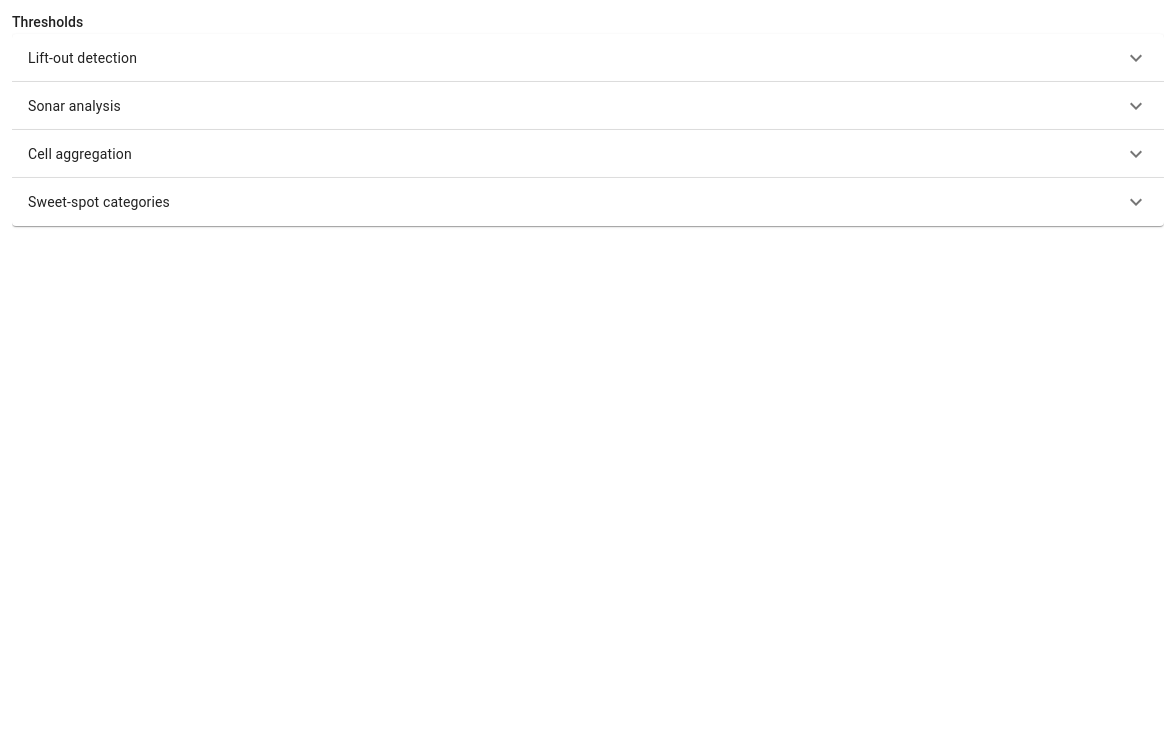
Test: <ThresholdControls/> › expanding a section reveals its sliders
This screenshot has width=1176, height=732.
Click the button "Lift-out detection". click: (83, 58)
box: 12,34 -> 1164,82
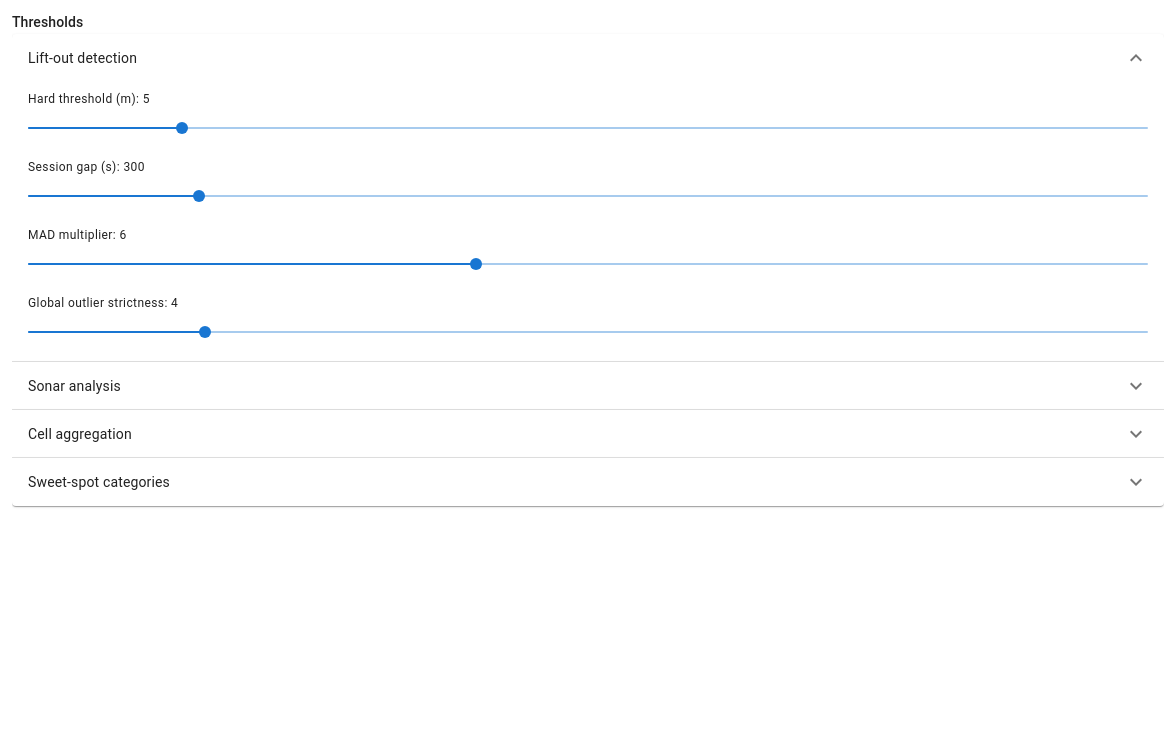
Result: the text "Hard threshold (m): 5" is shown at 28,92 -> 150,106
